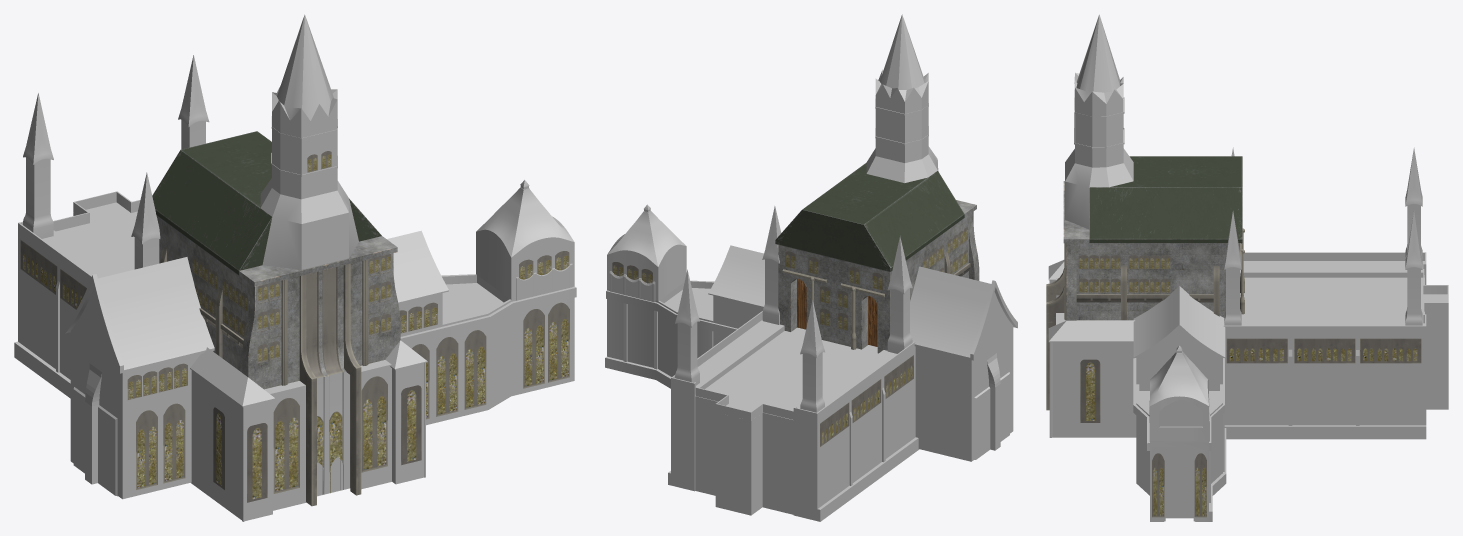
File: castle_un.fbx
3 renders of one model, left to right at view 1: azimuth 30°, elevation 25°; view 2: azimuth 150°, elevation 25°; view 3: azimuth 270°, elevation 25°, orthographic. The views are drawn at different scales.
Visible parts, largest first — view 1: middle, bottom, left_side, right_side, tower, bottom_windows, right_side_windows, back_towers, left_side_windows, middle_windows, bottom_doors; view 2: bottom, middle, left_side, right_side, back_towers, tower, middle_windows, bottom_windows; view 3: bottom, middle, right_side, tower, bottom_windows, back_towers, middle_windows, right_side_windows.
Part boxes in pixels (x1=…): middle: x1=152, y1=131, x2=400, y2=506; bottom: x1=14, y1=191, x2=427, y2=521; left_side: x1=65, y1=257, x2=214, y2=499; right_side: x1=387, y1=180, x2=576, y2=425; tower: x1=260, y1=14, x2=358, y2=269; bottom_windows: x1=20, y1=240, x2=421, y2=502; right_side_windows: x1=399, y1=251, x2=569, y2=419; back_towers: x1=23, y1=55, x2=209, y2=269; left_side_windows: x1=127, y1=363, x2=187, y2=489; middle_windows: x1=192, y1=254, x2=390, y2=362; bottom_doors: x1=317, y1=457, x2=343, y2=496; bottom: x1=668, y1=311, x2=919, y2=521; middle: x1=775, y1=162, x2=979, y2=353; left_side: x1=910, y1=266, x2=1017, y2=461; right_side: x1=605, y1=204, x2=764, y2=388; back_towers: x1=675, y1=206, x2=912, y2=412; tower: x1=866, y1=14, x2=938, y2=182; middle_windows: x1=785, y1=227, x2=967, y2=330; bottom_windows: x1=820, y1=355, x2=913, y2=446; bottom: x1=1048, y1=252, x2=1448, y2=439; middle: x1=1046, y1=156, x2=1244, y2=410; right_side: x1=1133, y1=286, x2=1226, y2=521; tower: x1=1065, y1=14, x2=1133, y2=229; bottom_windows: x1=1080, y1=338, x2=1421, y2=422; back_towers: x1=1224, y1=147, x2=1422, y2=325; middle_windows: x1=1078, y1=255, x2=1170, y2=292; right_side_windows: x1=1152, y1=453, x2=1206, y2=517.
Bounding box in the file's own units: 4.39 × 4.16 × 3.92.
